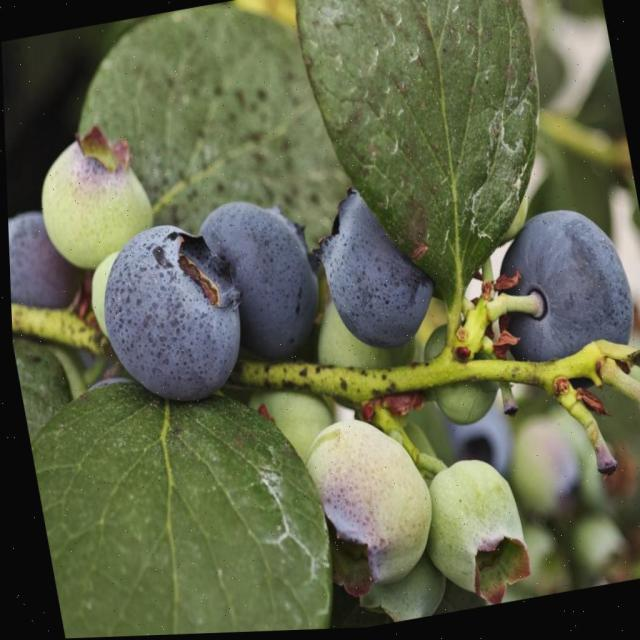RipeBlueBerry: (89, 220, 247, 412), (487, 202, 640, 390)
UnripeBlueBerry: (291, 414, 438, 603), (408, 458, 530, 615), (33, 130, 159, 274)
